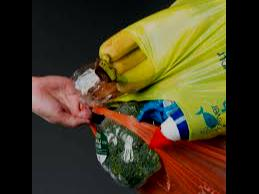Plastic: (91, 0, 226, 141), (85, 98, 226, 193)
